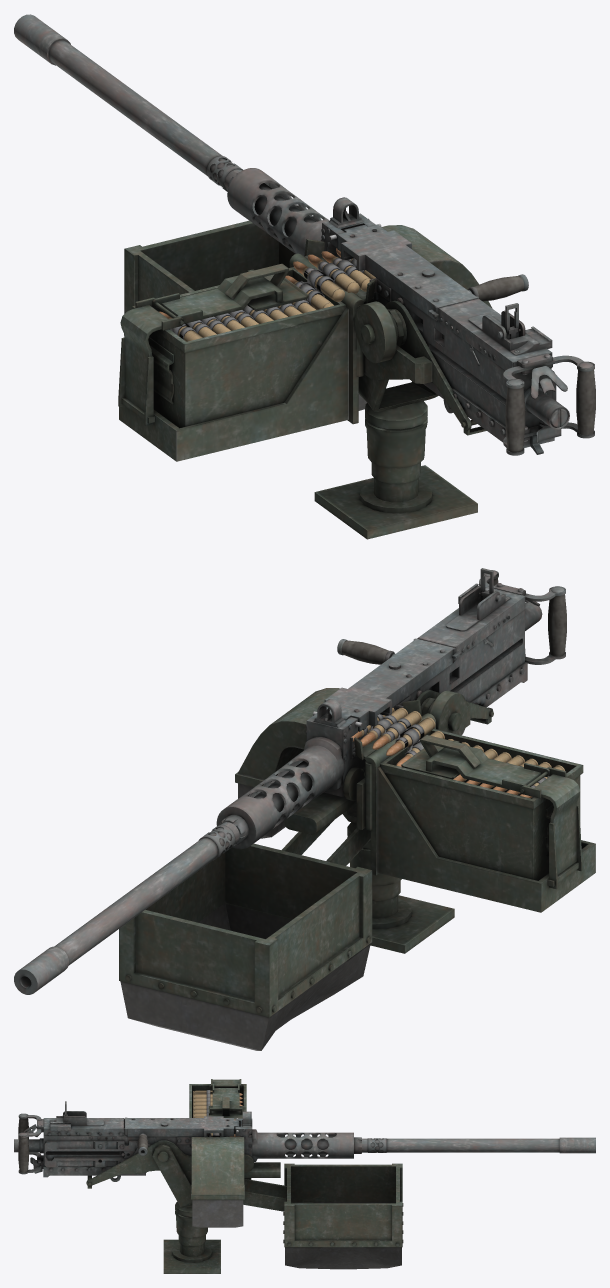
3 views of the same model, one above another, from view 1: azimuth 30°, elevation 25°; view 2: azimuth 150°, elevation 25°; view 3: azimuth 270°, elevation 25° (orthographic). The views are drawn at different scales.
Visible parts, largest first — view 1: M2 add1, M2 muzzle, M2 bu, M2 striker; view 2: M2 add1, M2 muzzle, M2 bu, M2 striker; view 3: M2 add1, M2 muzzle, M2 bu.
Part boxes in pixels (bbox=[...]): M2 add1: bbox=[118, 156, 595, 539]; M2 muzzle: bbox=[14, 14, 316, 236]; M2 bu: bbox=[159, 248, 375, 341]; M2 striker: bbox=[468, 274, 528, 301]; M2 add1: bbox=[119, 568, 595, 1050]; M2 muzzle: bbox=[14, 761, 312, 994]; M2 bu: bbox=[351, 707, 564, 798]; M2 striker: bbox=[337, 639, 394, 664]; M2 add1: bbox=[14, 1079, 403, 1273]; M2 muzzle: bbox=[281, 1137, 595, 1153]; M2 bu: bbox=[193, 1090, 242, 1136].
Bounding box in the file's own units: 59.07 × 48.53 × 163.
